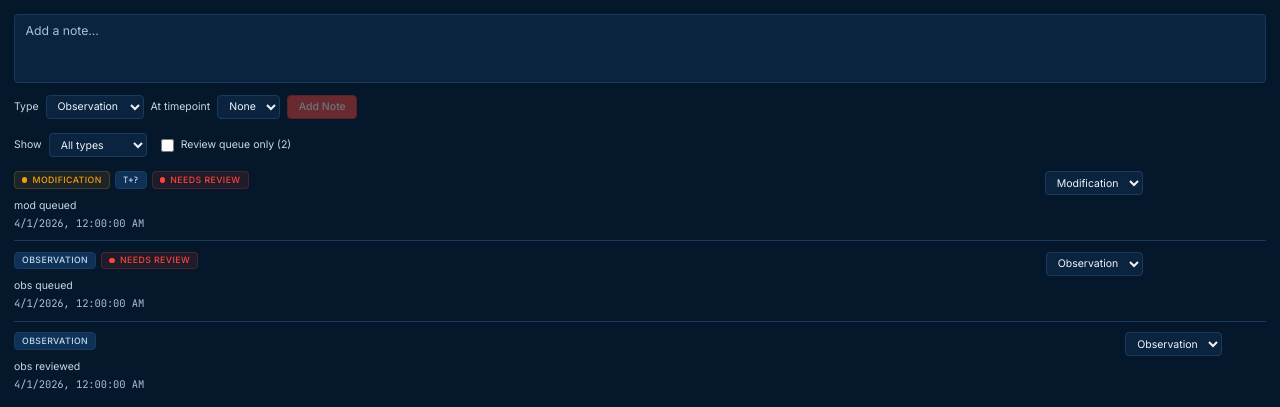
Test: NotesTab — timeline (issue #122 PR-C) › the type filter narrows the timeline and combines with review-only (Review Focus 4)
This screenshot has width=1280, height=407.
Select "Observation" in the dropdown named "Filter by type": {"x": 98, "y": 145} [49, 133, 147, 157]
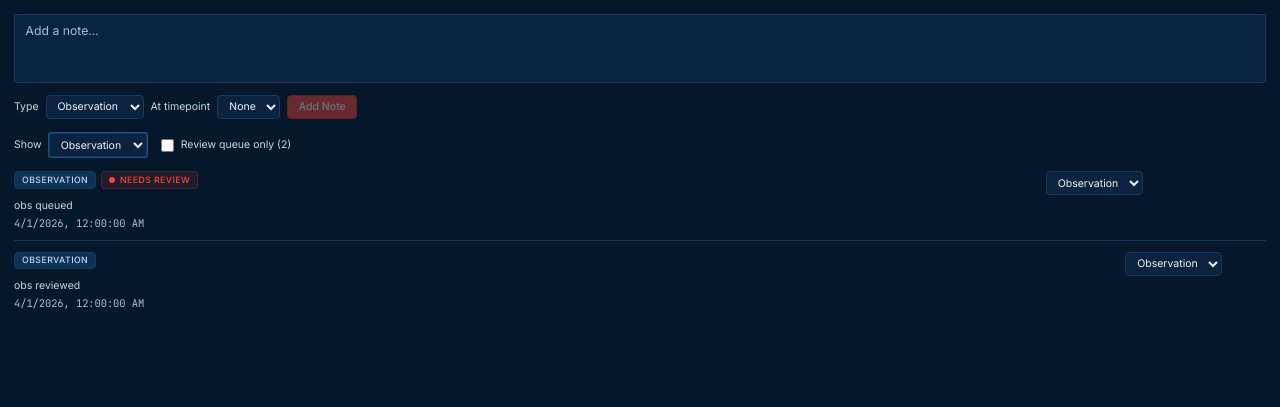
Expected: the text "obs reviewed" is shown, [14, 279, 80, 292]
Expected: the text "mod queued" is gone
Click the checkbox labelled "Review queue only (2)": {"x": 167, "y": 145} [161, 138, 174, 152]
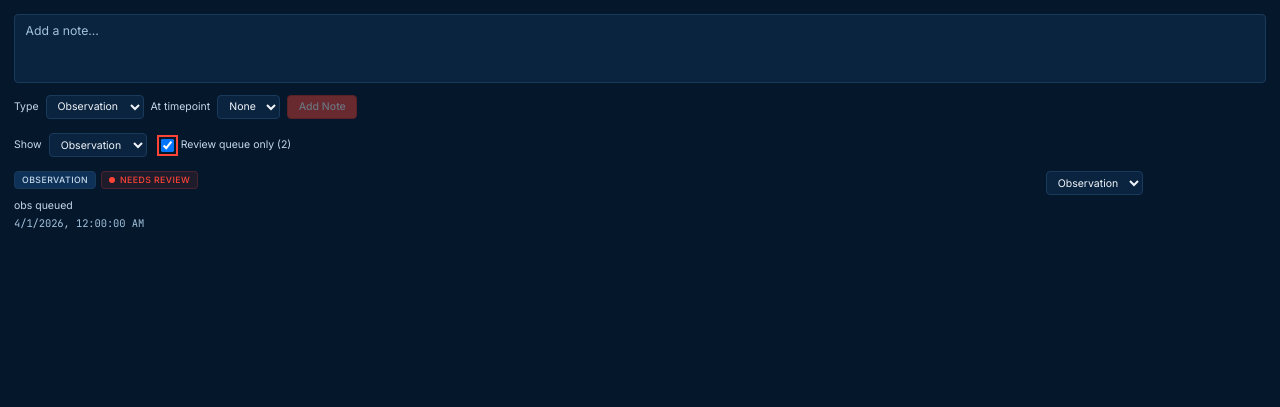
Expected: the text "obs queued" is shown, [14, 199, 73, 212]
Expected: the text "obs reviewed" is gone
